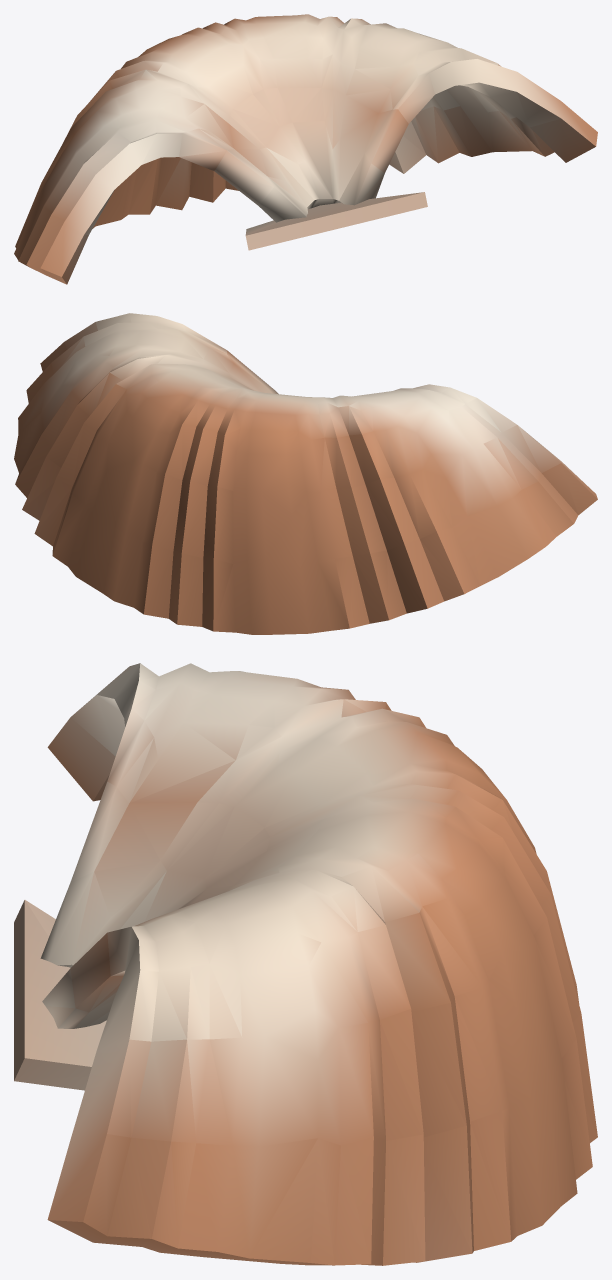
File: shore_cockle_lod1.glb
The picture shows the model from 3 angles, top to bottom: view 1: azimuth 30°, elevation 25°; view 2: azimuth 150°, elevation 25°; view 3: azimuth 270°, elevation 25°; orthographic projection. The views are drawn at different scales.
Visible parts, largest first — view 1: shore_cockle.001; view 2: shore_cockle.001; view 3: shore_cockle.001.
Part boxes in pixels (box(x1,y1,x2,y2)): shore_cockle.001: box(14, 14, 597, 284); shore_cockle.001: box(14, 313, 597, 634); shore_cockle.001: box(14, 663, 597, 1265).
Bounding box in the file's own units: 10.2 × 3.5 × 5.1.
